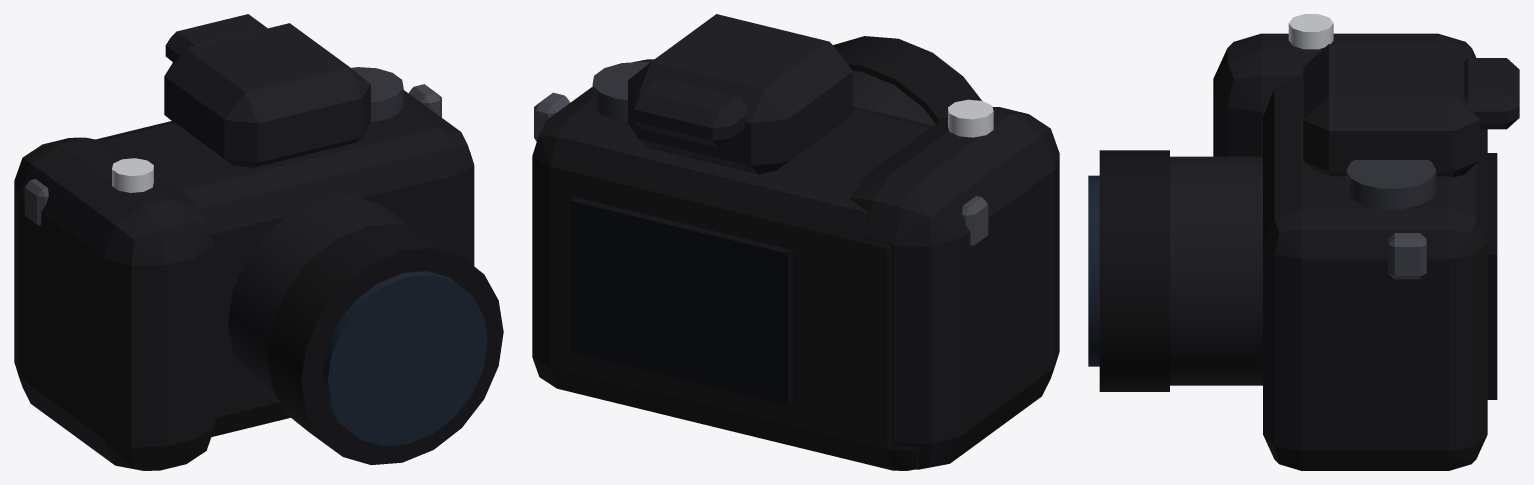
Rendered from camera_foto.obj.
The picture shows the model from 3 angles, left to right: view 1: azimuth 30°, elevation 25°; view 2: azimuth 150°, elevation 25°; view 3: azimuth 270°, elevation 25°; orthographic projection. The views are drawn at different scales.
Visible parts, largest first — view 1: camera_foto; view 2: camera_foto; view 3: camera_foto.
Part boxes in pixels (x1,y1,x2,y2): camera_foto: (14,14,503,470); camera_foto: (532,14,1059,470); camera_foto: (1088,14,1519,470).
Bounding box in the file's own units: 0.152 × 0.1155 × 0.1345.
